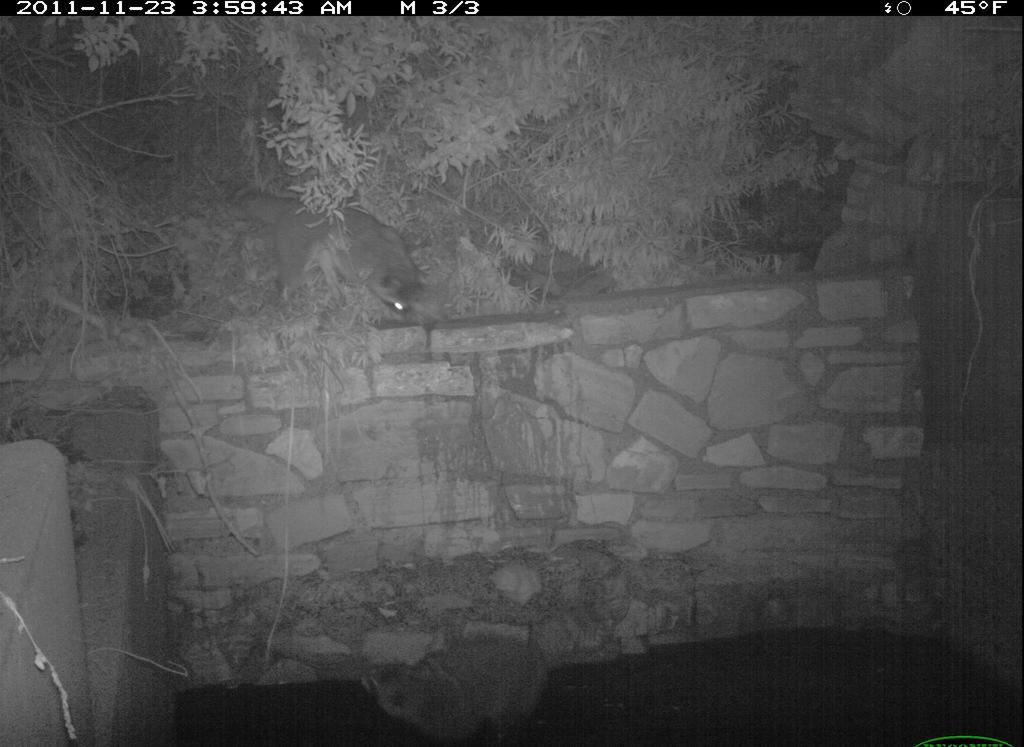raccoon: (209, 163, 438, 328), (356, 629, 555, 743)
